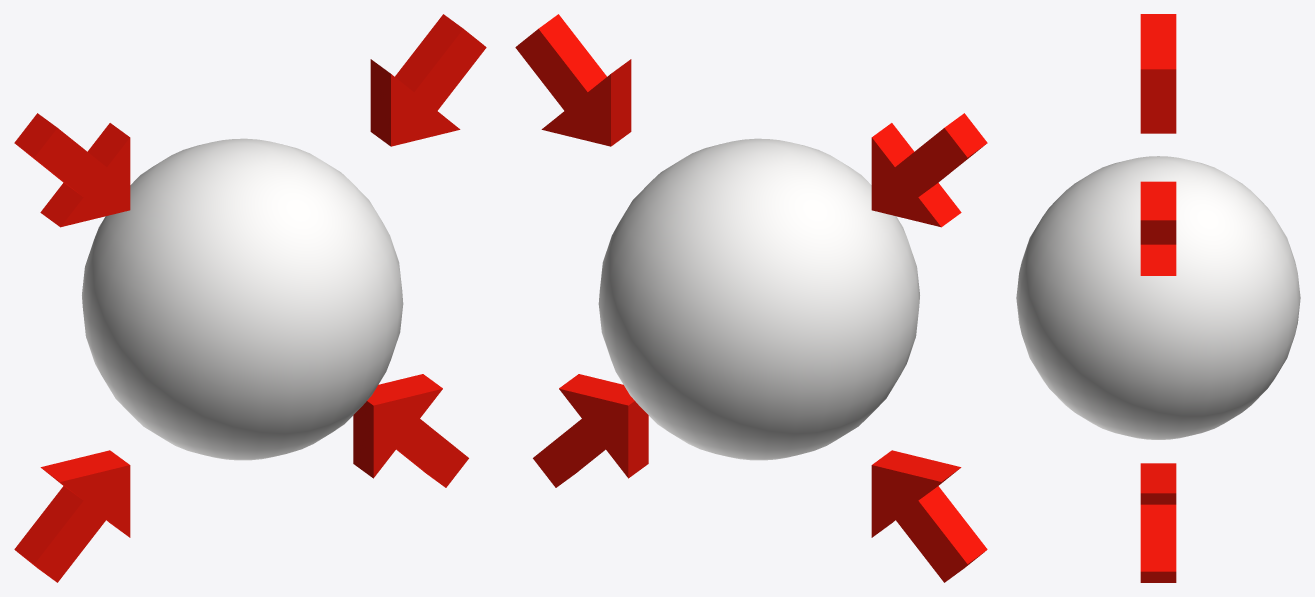
Rendered from ball_size_down_final.fbx.
3 renders of one model, left to right at view 1: azimuth 30°, elevation 25°; view 2: azimuth 150°, elevation 25°; view 3: azimuth 270°, elevation 25°, orthographic. The views are drawn at different scales.
Visible parts, largest first — view 1: Ball Size Down; view 2: Ball Size Down; view 3: Ball Size Down.
Boxes of the visible parts, x1,y1,x2,y2 form: Ball Size Down: (14, 14, 486, 582); Ball Size Down: (515, 14, 987, 582); Ball Size Down: (1016, 14, 1300, 582).
Size of the model in its own units: 130 by 125 by 80.
